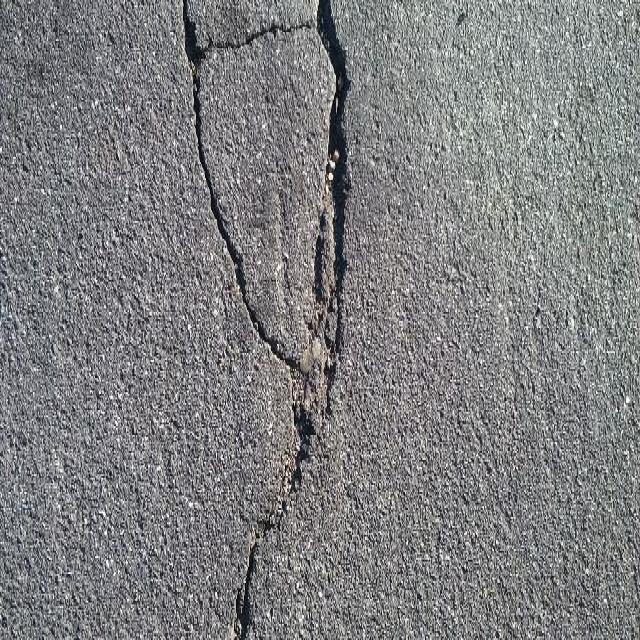moderate crack: (220, 334, 337, 640), (189, 80, 276, 351), (312, 0, 353, 243), (243, 305, 318, 380), (226, 538, 261, 637), (0, 280, 34, 344), (615, 372, 638, 420), (546, 125, 565, 144)
severe crack: (304, 2, 639, 638), (3, 0, 211, 427), (1, 421, 254, 637), (201, 19, 312, 51), (232, 483, 280, 539), (233, 412, 251, 454), (231, 262, 250, 296), (313, 437, 334, 464), (288, 464, 303, 490), (336, 75, 352, 95), (202, 32, 214, 50), (271, 26, 280, 38)
